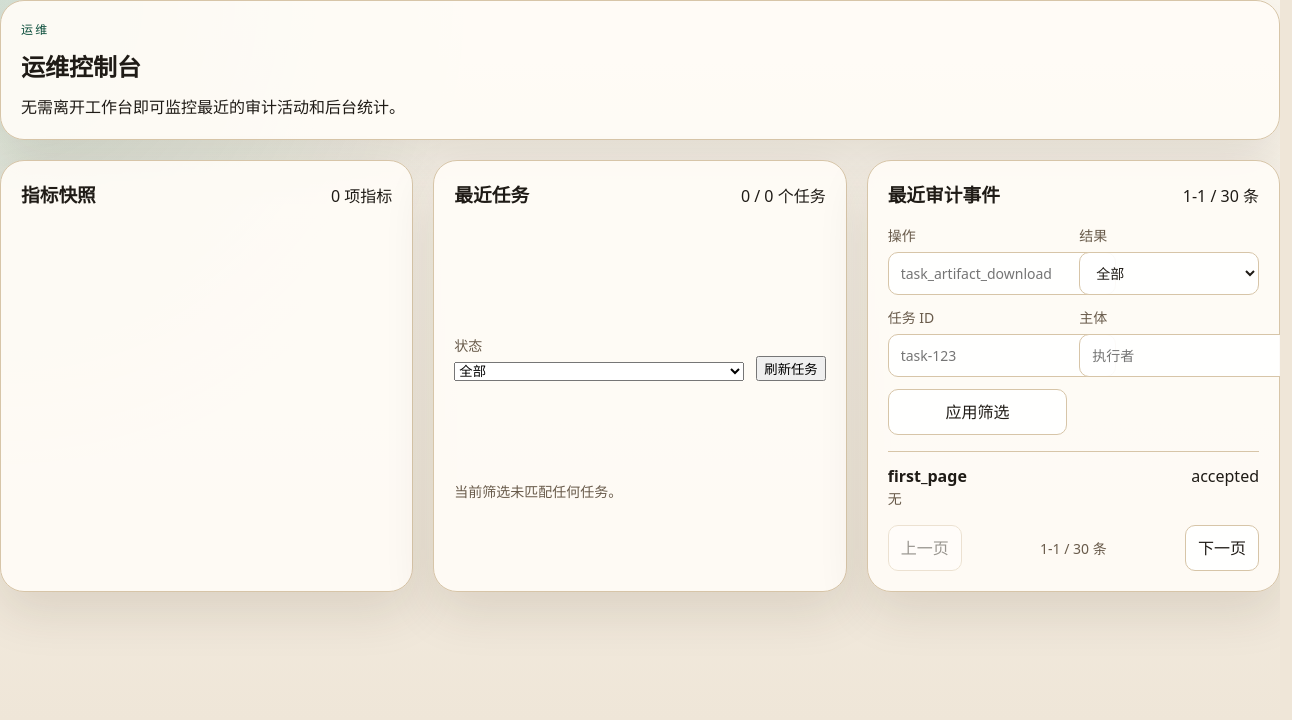
AdminPage › loads the next page of audit events
The width and height of the screenshot is (1292, 720).
Step 1. Click the button with test id "audit-next-page" → (1222, 548), box x1=1185 y1=525 x2=1259 y2=571
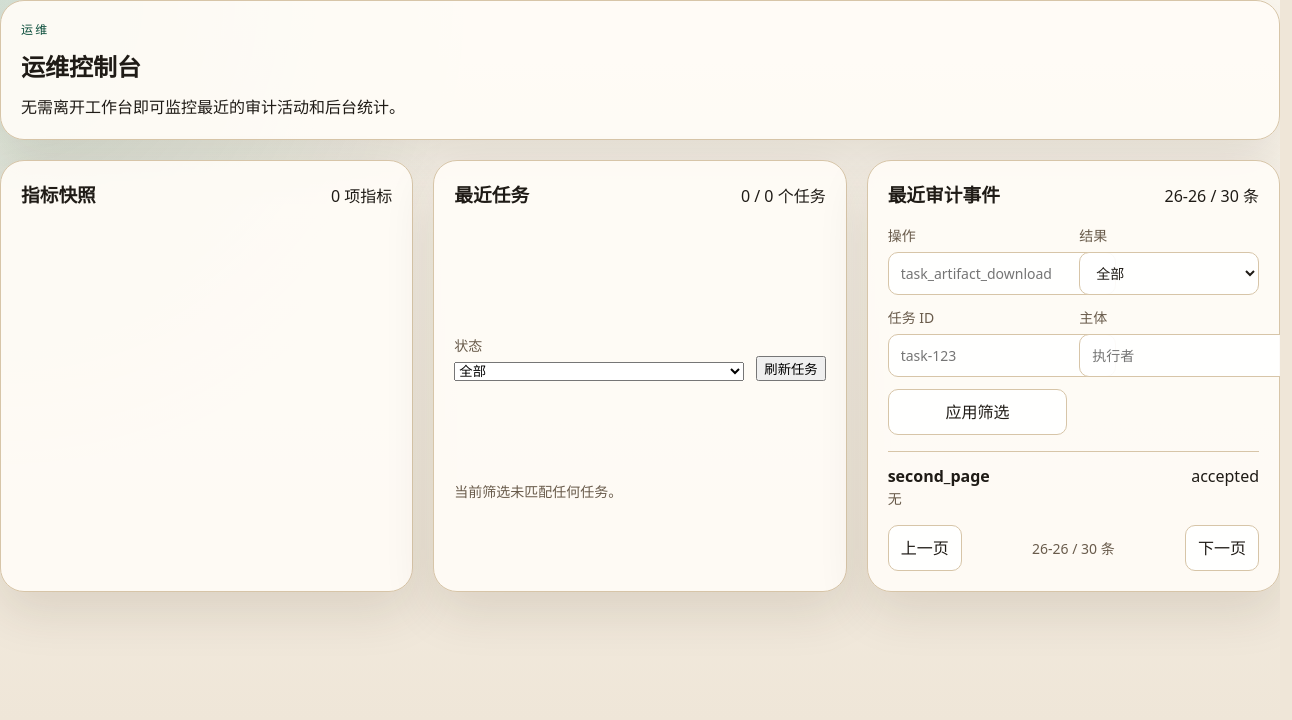
Check: the text "second_page" is shown, box x1=888 y1=464 x2=990 y2=488
